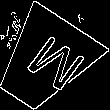M_SW: (9, 28, 80, 96)
